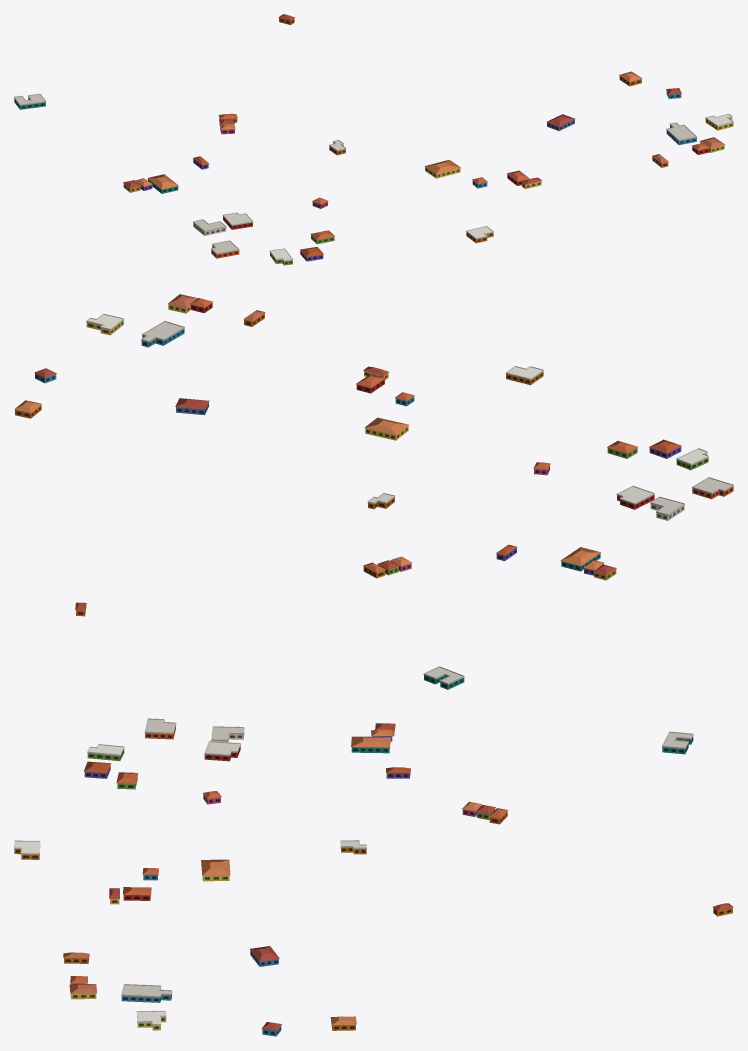
File: msb_noord_m14_m12.glb
3 renders of one model, top to bottom at view 1: azimuth 30°, elevation 25°; view 2: azimuth 150°, elevation 25°; view 3: azimuth 270°, elevation 25°, orthographic. The views are drawn at different scales.
Visible parts, largest first — view 1: msb_noord_m14_m12_lod0; view 2: msb_noord_m14_m12_lod0; view 3: msb_noord_m14_m12_lod0.
Boxes of the visible parts, x1,y1,x2,y2 form: msb_noord_m14_m12_lod0: [14, 14, 733, 265]; msb_noord_m14_m12_lod0: [14, 294, 733, 689]; msb_noord_m14_m12_lod0: [14, 718, 733, 1036].
Size of what is drawn, in the model's own units: 402 by 20.54 by 384.
3 materials, 1 textured.
